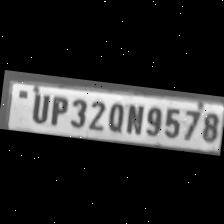2: (84, 95, 107, 131)
3: (66, 92, 88, 127)
5: (160, 103, 182, 138)
7: (178, 105, 201, 140)
8: (197, 108, 221, 142)
9: (141, 102, 164, 136)
N: (122, 99, 145, 134)
P: (46, 91, 68, 126)
Q: (104, 98, 126, 132)
U: (26, 89, 50, 123)
